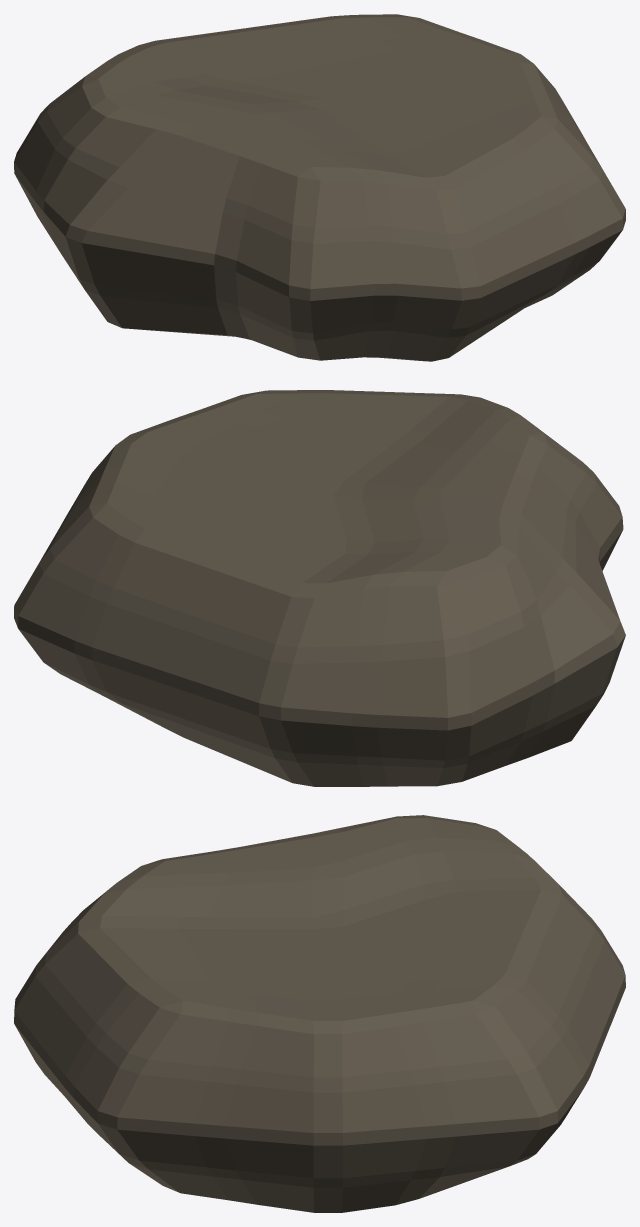
File: rock_3_garden.fbx
3 renders of one model, top to bottom at view 1: azimuth 30°, elevation 25°; view 2: azimuth 150°, elevation 25°; view 3: azimuth 270°, elevation 25°, orthographic. The views are drawn at different scales.
Parts seen in each view (by area): view 1: rock_3_garden; view 2: rock_3_garden; view 3: rock_3_garden.
Boxes of the visible parts, box(x1,y1,x2,y2) form: rock_3_garden: box(14, 14, 625, 361); rock_3_garden: box(14, 390, 625, 786); rock_3_garden: box(14, 815, 625, 1212).
Bounding box in the file's own units: 65.71 × 26.72 × 65.79.
